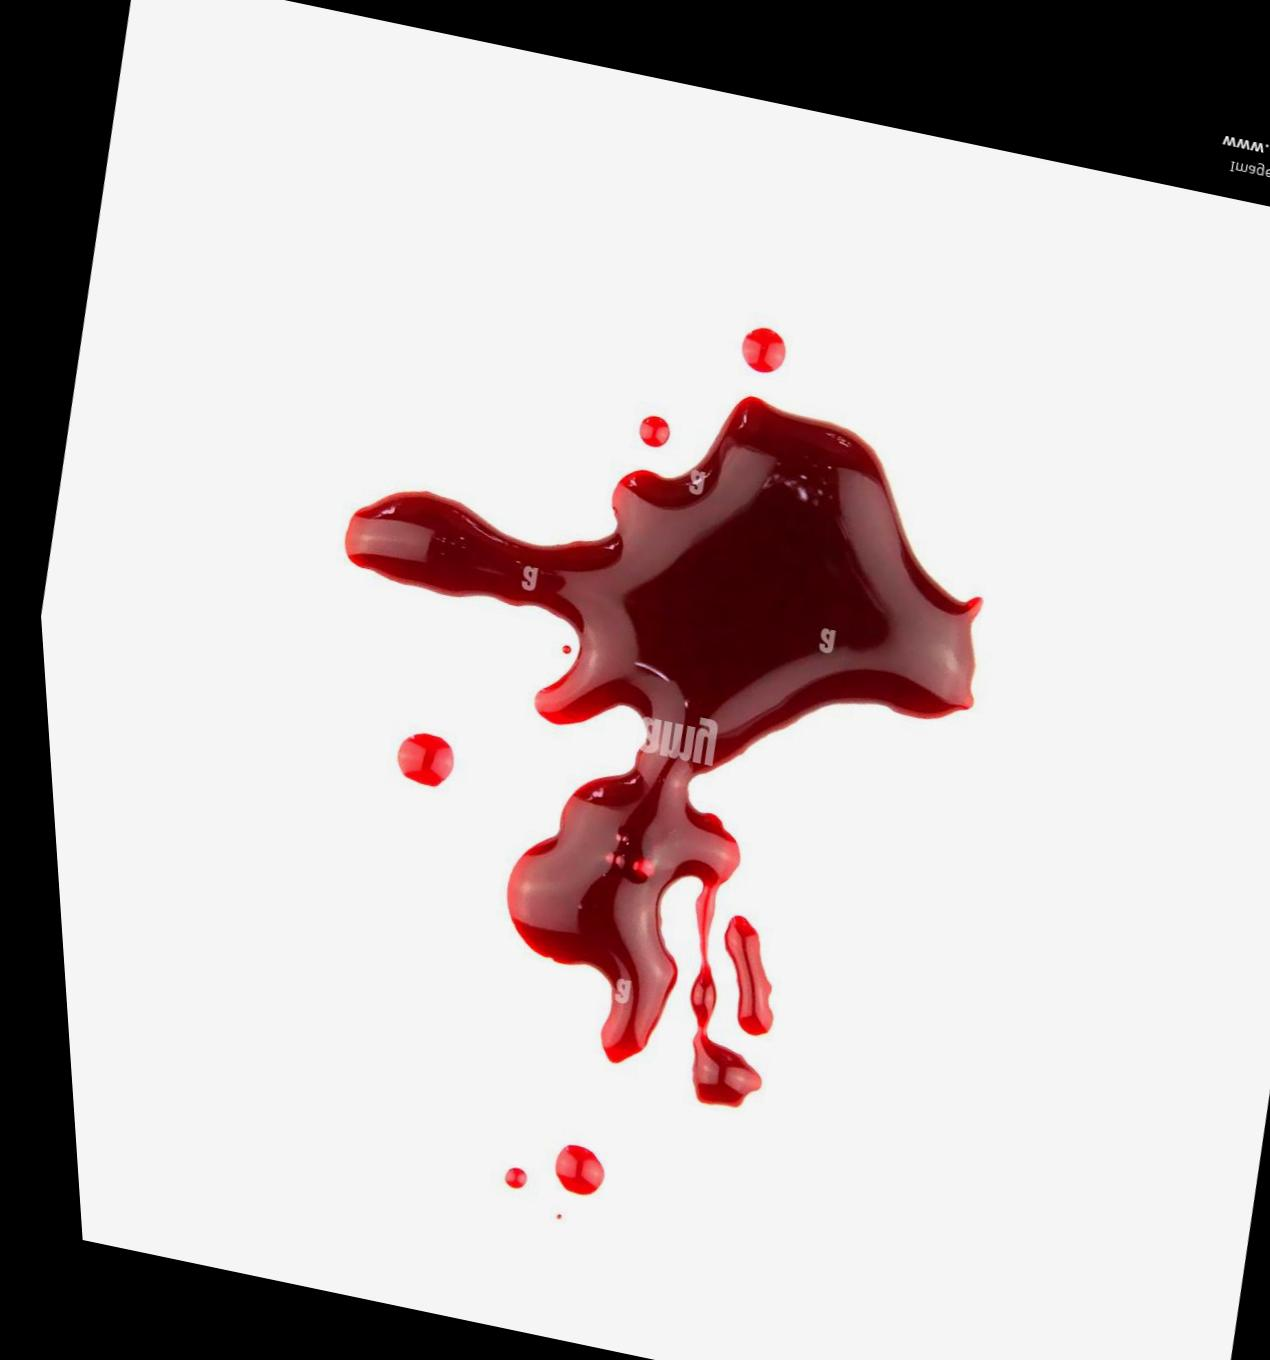Fire: (337, 396, 975, 1109), (709, 916, 759, 1036), (386, 733, 443, 788), (537, 1145, 587, 1198), (735, 328, 781, 375), (631, 416, 664, 449)
